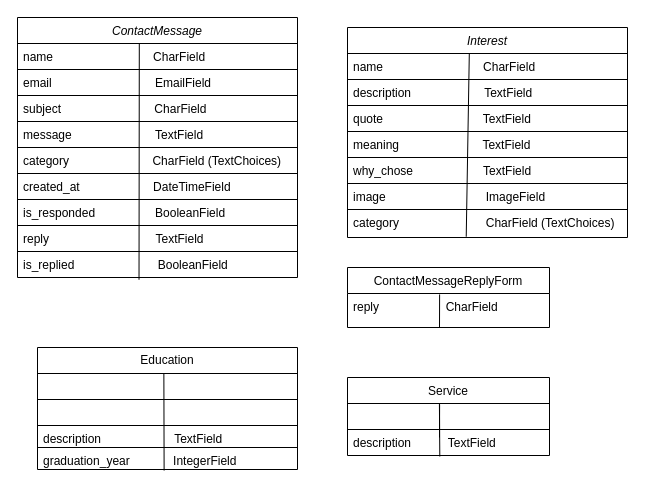
This 645x490 diagram has some shape labels left out. Here are the shapes that lost their labels. From the top down, the centre of each, then its label:
the point at 167,386: uni_name CharField
the point at 167,412: degree CharField
the point at 448,416: title CharField
